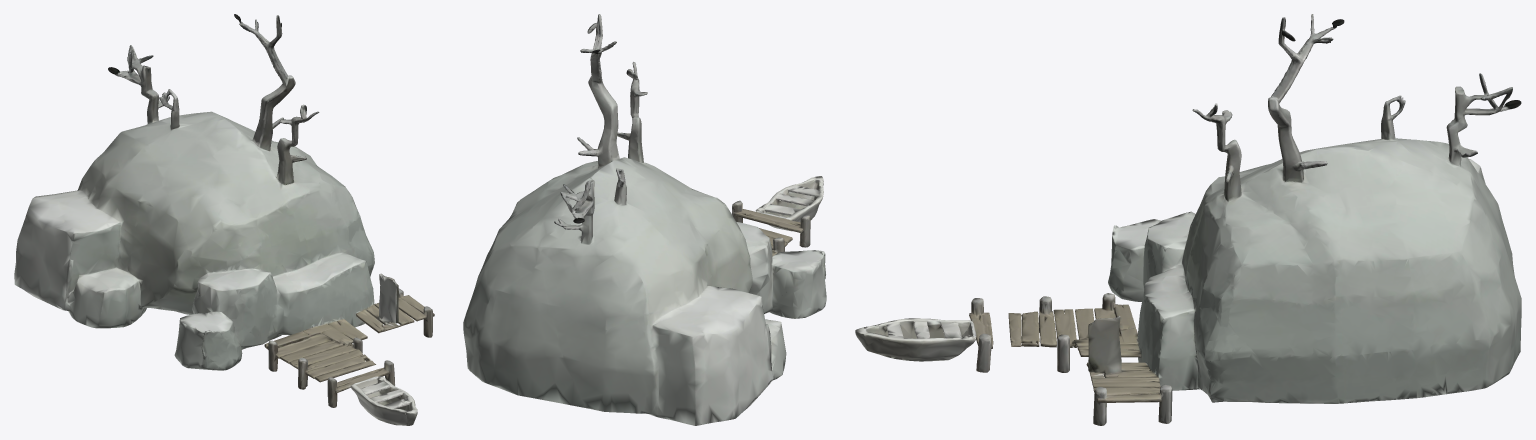
Rendered from fan_pineisland.glb.
3 renders of one model, left to right at view 1: azimuth 30°, elevation 25°; view 2: azimuth 150°, elevation 25°; view 3: azimuth 270°, elevation 25°, orthographic. The views are drawn at different scales.
Parts seen in each view (by area): view 1: tripo_node_14ac5c04-fd31-41a4-bf9a-c564985f0cc8; view 2: tripo_node_14ac5c04-fd31-41a4-bf9a-c564985f0cc8; view 3: tripo_node_14ac5c04-fd31-41a4-bf9a-c564985f0cc8.
Part boxes in pixels (x1=…): tripo_node_14ac5c04-fd31-41a4-bf9a-c564985f0cc8: x1=14, y1=14, x2=434, y2=425; tripo_node_14ac5c04-fd31-41a4-bf9a-c564985f0cc8: x1=463, y1=14, x2=826, y2=425; tripo_node_14ac5c04-fd31-41a4-bf9a-c564985f0cc8: x1=855, y1=14, x2=1521, y2=425.
Bounding box in the file's own units: 0.5886 × 0.5819 × 0.9792.
Materials: 1 (1 with a texture image).
